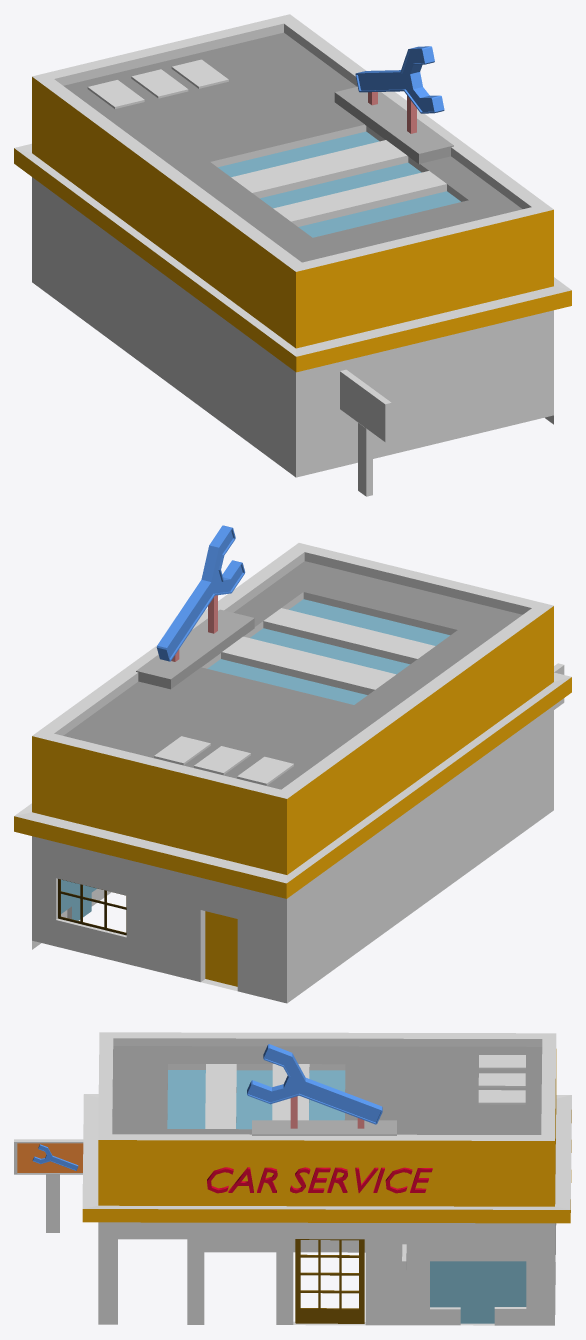
Rendered from Car_Service_tran.glb.
The picture shows the model from 3 angles, top to bottom: view 1: azimuth 30°, elevation 25°; view 2: azimuth 150°, elevation 25°; view 3: azimuth 270°, elevation 25°; orthographic projection. The views are drawn at different scales.
Parts seen in each view (by area): view 1: Plane.672, Support01_3.001, Cube.000, Cube.4134, Cube.4132, Cube.4133, Cube.4135; view 2: Plane.672, Support01_3.001, Cube.4135, Cube.4132, Cube.4133; view 3: Plane.672, Support01_3.001, Cube.4131, Text.022, Cube.000, Cube.4134, Cube.4132, Cube.4133, Cube.4135, Support01_3.000.
Part boxes in pixels (x1,y1,x2,y2): Plane.672: (14,14,571,477); Support01_3.001: (334,46,453,164); Cube.000: (340,369,391,442); Cube.4134: (358,423,372,496); Cube.4132: (171,59,228,88); Cube.4133: (131,69,188,98); Cube.4135: (87,80,144,108); Plane.672: (14,543,571,1003); Support01_3.001: (136,525,254,689); Cube.4135: (237,756,293,785); Cube.4132: (154,736,210,765); Cube.4133: (194,746,250,774); Plane.672: (82,1032,571,1325); Support01_3.001: (247,1044,396,1135); Cube.4131: (295,1239,364,1323); Text.022: (207,1167,432,1193); Cube.000: (14,1139,83,1174); Cube.4134: (46,1174,59,1232); Cube.4132: (478,1090,525,1104); Cube.4133: (478,1073,525,1087); Cube.4135: (479,1055,525,1069); Support01_3.000: (32,1144,78,1170).
Size of the model in its own units: 0.304 by 0.2936 by 0.5562.
